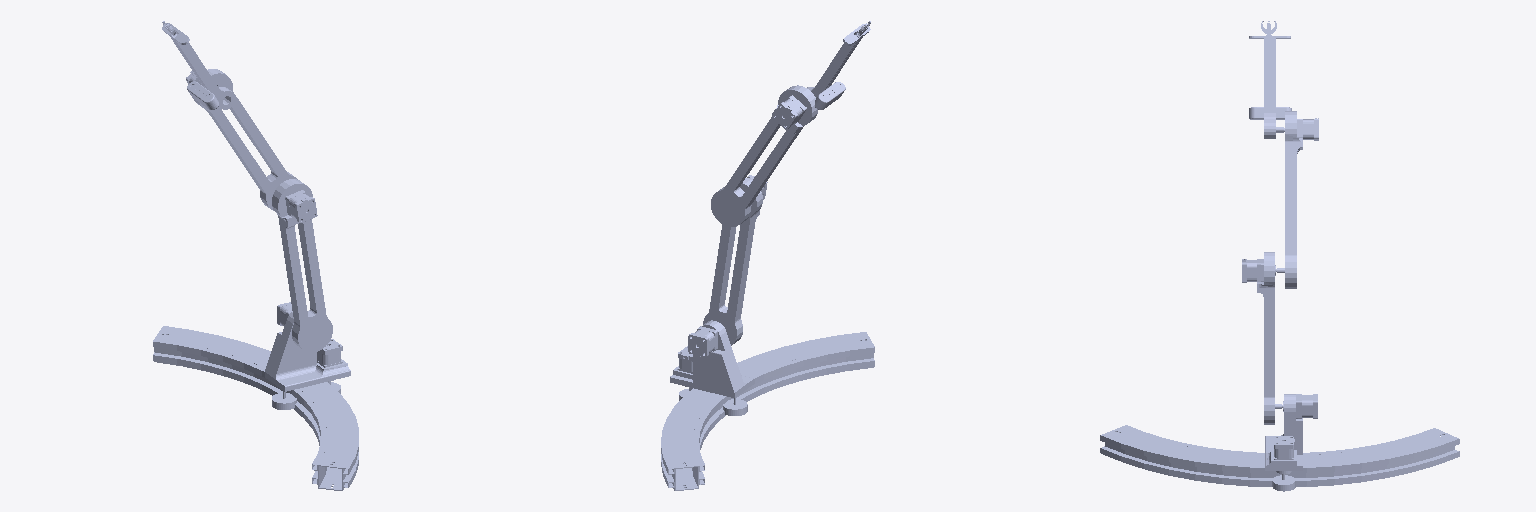
The robot description file, URDF, robot "urdf_assembly1":
<?xml version="1.0" encoding="utf-8"?>
<!-- This URDF was automatically created by SolidWorks to URDF Exporter! Originally created by [author] ([email redacted]) 
     Commit Version: 1.6.0-4-g7f85cfe  Build Version: 1.6.7995.38578
     For more information, please see http://wiki.ros.org/sw_urdf_exporter -->
<robot
  name="urdf_assembly1">
   <link name="world"/>
<joint name="base_joint" type="fixed">
<parent link="world"/>
<child link="base_link"/>
<origin rpy="0 0 0" xyz="0.0 0.0 0.17"/>
</joint>
  <link
    name="base_link">
    <inertial>
      <origin
        xyz="-0.36733 0.19767 -0.051276"
        rpy="0 0 0" />
      <mass
        value="0.45319" />
      <inertia
        ixx="0.020814"
        ixy="-0.00050025"
        ixz="1.72E-18"
        iyy="0.0011199"
        iyz="9.0967E-18"
        izz="0.021684" />
    </inertial>
    <visual>
      <origin
        xyz="0 0 0"
        rpy="0 0 0" />
      <geometry>
        <mesh
          filename="package://urdf_assembly1/meshes/base_link.STL" />
      </geometry>
      <material
        name="">
        <color
          rgba="0.79216 0.81961 0.93333 1" />
      </material>
    </visual>
    <collision>
      <origin
        xyz="0 0 0"
        rpy="0 0 0" />
      <geometry>
        <mesh
          filename="package://urdf_assembly1/meshes/base_link.STL" />
      </geometry>
    </collision>
  </link>
  <link
    name="link_1">
    <inertial>
      <origin
        xyz="0.33558 -0.090958 0.37115"
        rpy="0 0 0" />
      <mass
        value="0.70484" />
      <inertia
        ixx="0.00091738"
        ixy="-8.2523E-05"
        ixz="-0.00014882"
        iyy="0.00072923"
        iyz="3.1654E-05"
        izz="0.00098046" />
    </inertial>
    <visual>
      <origin
        xyz="0 0 0"
        rpy="0 0 0" />
      <geometry>
        <mesh
          filename="package://urdf_assembly1/meshes/link_1.STL" />
      </geometry>
      <material
        name="">
        <color
          rgba="0.79216 0.81961 0.93333 1" />
      </material>
    </visual>
    <collision>
      <origin
        xyz="0 0 0"
        rpy="0 0 0" />
      <geometry>
        <mesh
          filename="package://urdf_assembly1/meshes/link_1.STL" />
      </geometry>
    </collision>
  </link>
  <joint
    name="Joint_1"
    type="fixed">
    <origin
      xyz="-0.4994 0 -0.0495"
      rpy="-1.5708 0 -0.80907" />
    <parent
      link="base_link" />
    <child
      link="link_1" />
    <axis
      xyz="0 0 0" />
  </joint>
  <link
    name="link_2">
    <inertial>
      <origin
        xyz="0.051093 -0.16983 0.0013204"
        rpy="0 0 0" />
      <mass
        value="0.57902" />
      <inertia
        ixx="0.0065109"
        ixy="0.00091045"
        ixz="-0.00021122"
        iyy="0.00056122"
        iyz="0.00090276"
        izz="0.0065062" />
    </inertial>
    <visual>
      <origin
        xyz="0 0 0"
        rpy="0 0 0" />
      <geometry>
        <mesh
          filename="package://urdf_assembly1/meshes/link_2.STL" />
      </geometry>
      <material
        name="">
        <color
          rgba="0.79216 0.81961 0.93333 1" />
      </material>
    </visual>
    <collision>
      <origin
        xyz="0 0 0"
        rpy="0 0 0" />
      <geometry>
        <mesh
          filename="package://urdf_assembly1/meshes/link_2.STL" />
      </geometry>
    </collision>
  </link>
  <joint
    name="joint_2"
    type="revolute">
    <origin
      xyz="0.34191 -0.1615 0.35849"
      rpy="0.25935 0.032384 -0.24709" />
    <parent
      link="link_1" />
    <child
      link="link_2" />
    <axis
      xyz="0.72365 0 -0.69017" />
    <limit
      lower="-1"
      upper="1.5"
      effort="0.7"
      velocity="0.5" />
  </joint>
  <link
    name="link_3">
    <inertial>
      <origin
        xyz="0.039877 -0.16983 0.012018"
        rpy="0 0 0" />
      <mass
        value="0.57902" />
      <inertia
        ixx="0.0065109"
        ixy="0.00091045"
        ixz="-0.00021122"
        iyy="0.00056122"
        iyz="0.00090276"
        izz="0.0065062" />
    </inertial>
    <visual>
      <origin
        xyz="0 0 0"
        rpy="0 0 0" />
      <geometry>
        <mesh
          filename="package://urdf_assembly1/meshes/link_3.STL" />
      </geometry>
      <material
        name="">
        <color
          rgba="0.79216 0.81961 0.93333 1" />
      </material>
    </visual>
    <collision>
      <origin
        xyz="0 0 0"
        rpy="0 0 0" />
      <geometry>
        <mesh
          filename="package://urdf_assembly1/meshes/link_3.STL" />
      </geometry>
    </collision>
  </link>
  <joint
    name="joint_3"
    type="revolute">
    <origin
      xyz="0.043186 -0.2934 0.045281"
      rpy="-3.1201 -0.00022092 -3.1211" />
    <parent
      link="link_2" />
    <child
      link="link_3" />
    <axis
      xyz="0.72365 0 -0.69017" />
    <limit
      lower="-1"
      upper="1.5"
      effort="0.7"
      velocity="0" />
  </joint>
  <link
    name="link_4">
    <inertial>
      <origin
        xyz="0.073794 -0.020494 0.034442"
        rpy="0 0 0" />
      <mass
        value="0.17249" />
      <inertia
        ixx="0.00030529"
        ixy="3.4012E-05"
        ixz="-0.0002374"
        iyy="0.00056091"
        iyz="3.5666E-05"
        izz="0.00028271" />
    </inertial>
    <visual>
      <origin
        xyz="0 0 0"
        rpy="0 0 0" />
      <geometry>
        <mesh
          filename="package://urdf_assembly1/meshes/link_4.STL" />
      </geometry>
      <material
        name="">
        <color
          rgba="0.79216 0.81961 0.93333 1" />
      </material>
    </visual>
    <collision>
      <origin
        xyz="0 0 0"
        rpy="0 0 0" />
      <geometry>
        <mesh
          filename="package://urdf_assembly1/meshes/link_4.STL" />
      </geometry>
    </collision>
  </link>
  <joint
    name="joint_4"
    type="revolute">
    <origin
      xyz="0.043186 -0.2934 0.045281"
      rpy="-2.0851 -0.60331 -2.1619" />
    <parent
      link="link_3" />
    <child
      link="link_4" />
    <axis
      xyz="0.72365 0 -0.69017" />
    <limit
      lower="-1"
      upper="1.5"
      effort="0.7"
      velocity="0.5" />
  </joint>
    <transmission name="link_1_trans">
<type>transmission_interface/SimpleTransmission</type>
<joint name="joint_1">
<hardwareInterface>hardware_interface/PositionJointInterface</hardwareInterface>
</joint>
<actuator name="link_1_motor">
<hardwareInterface>hardware_interface/PositionJointInterface</hardwareInterface>
<mechanicalReduction>1</mechanicalReduction>
</actuator>
</transmission>

<transmission name="link_2_trans">
<type>transmission_interface/SimpleTransmission</type>
<joint name="joint_2">
<hardwareInterface>hardware_interface/PositionJointInterface</hardwareInterface>
</joint>
<actuator name="link_2_motor">
<hardwareInterface>hardware_interface/PositionJointInterface</hardwareInterface>
<mechanicalReduction>1</mechanicalReduction>
</actuator>
</transmission>

<transmission name="link_3_trans">
<type>transmission_interface/SimpleTransmission</type>
<joint name="joint_3">
<hardwareInterface>hardware_interface/PositionJointInterface</hardwareInterface>
</joint>
<actuator name="link_3_motor">
<hardwareInterface>hardware_interface/PositionJointInterface</hardwareInterface>
<mechanicalReduction>1</mechanicalReduction>
</actuator>
</transmission>

<transmission name="link_4_trans">
<type>transmission_interface/SimpleTransmission</type>
<joint name="joint_4">
<hardwareInterface>hardware_interface/PositionJointInterface</hardwareInterface>
</joint>
<actuator name="link_4_motor">
<hardwareInterface>hardware_interface/PositionJointInterface</hardwareInterface>
<mechanicalReduction>1</mechanicalReduction>
</actuator>
</transmission>

<gazebo>
<plugin name="control" filename="libgazebo_ros_control.so">
<robotNamespace>/</robotNamespace>
</plugin>
</gazebo>

<gazebo reference="link_1">
<selfCollide>true</selfCollide>
</gazebo>
v
<gazebo reference="link_2">
<selfCollide>true</selfCollide>
</gazebo>
<gazebo reference="link_3">
<selfCollide>true</selfCollide>
</gazebo>
<gazebo reference="link_4">
<selfCollide>true</selfCollide>
</gazebo>
</robot>

--- What the picture shows (computed from the rendered views, not written in the file) ---
Views: 3 orthographic renders of the robot side by side, from view 1: azimuth 30°, elevation 25°; view 2: azimuth 150°, elevation 25°; view 3: azimuth 270°, elevation 25°.
Model urdf_assembly1 with 6 links and 5 joints (3 revolute, 2 fixed), rooted at world, posed all joints at 0.
Visible links, largest first — view 1: base_link, link_2, link_1, link_3, link_4; view 2: base_link, link_3, link_1, link_2, link_4; view 3: base_link, link_1, link_3, link_2, link_4.
Link boxes in pixels (x1,y1,x2,y2): base_link: (153, 326, 358, 490); link_2: (272, 179, 332, 352); link_1: (265, 302, 350, 409); link_3: (186, 69, 297, 210); link_4: (162, 21, 235, 109); base_link: (661, 332, 874, 490); link_3: (711, 85, 817, 226); link_1: (670, 320, 754, 415); link_2: (703, 175, 767, 345); link_4: (807, 21, 870, 109); base_link: (1100, 425, 1459, 486); link_1: (1265, 394, 1317, 491); link_3: (1276, 111, 1318, 288); link_2: (1242, 252, 1284, 424); link_4: (1249, 21, 1291, 138).
Bounding box of the posed robot: 0.417 × 0.7608 × 0.9241 m (x, y, z).
Meshes: 5 distinct files referenced, 5 mesh visuals loaded (5 binary STL).